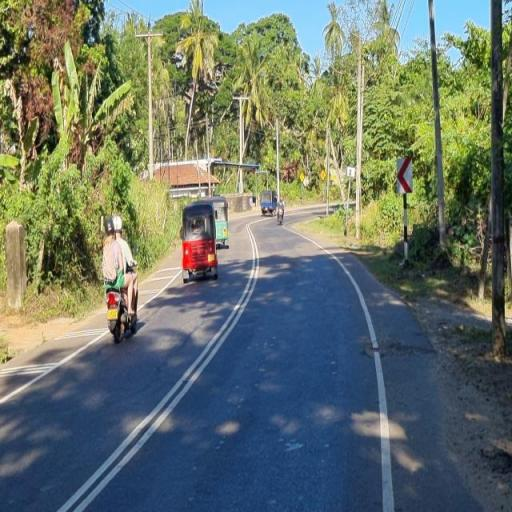double_white_line: (56, 220, 264, 511)
